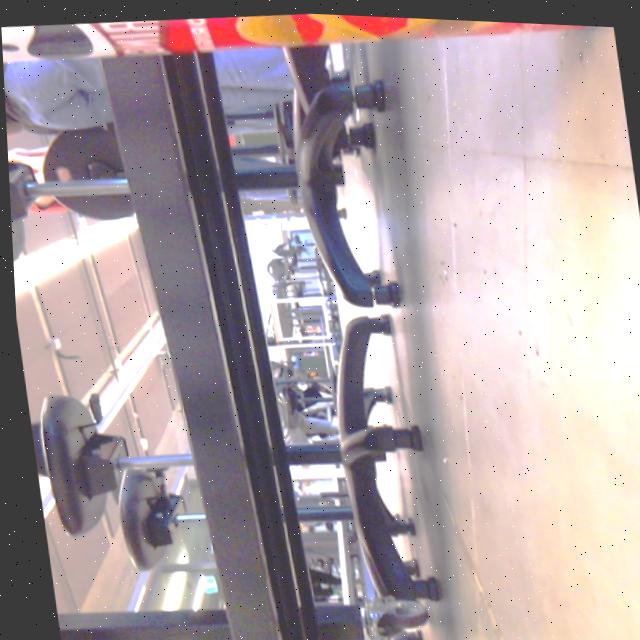redpringles: (0, 0, 620, 114)
